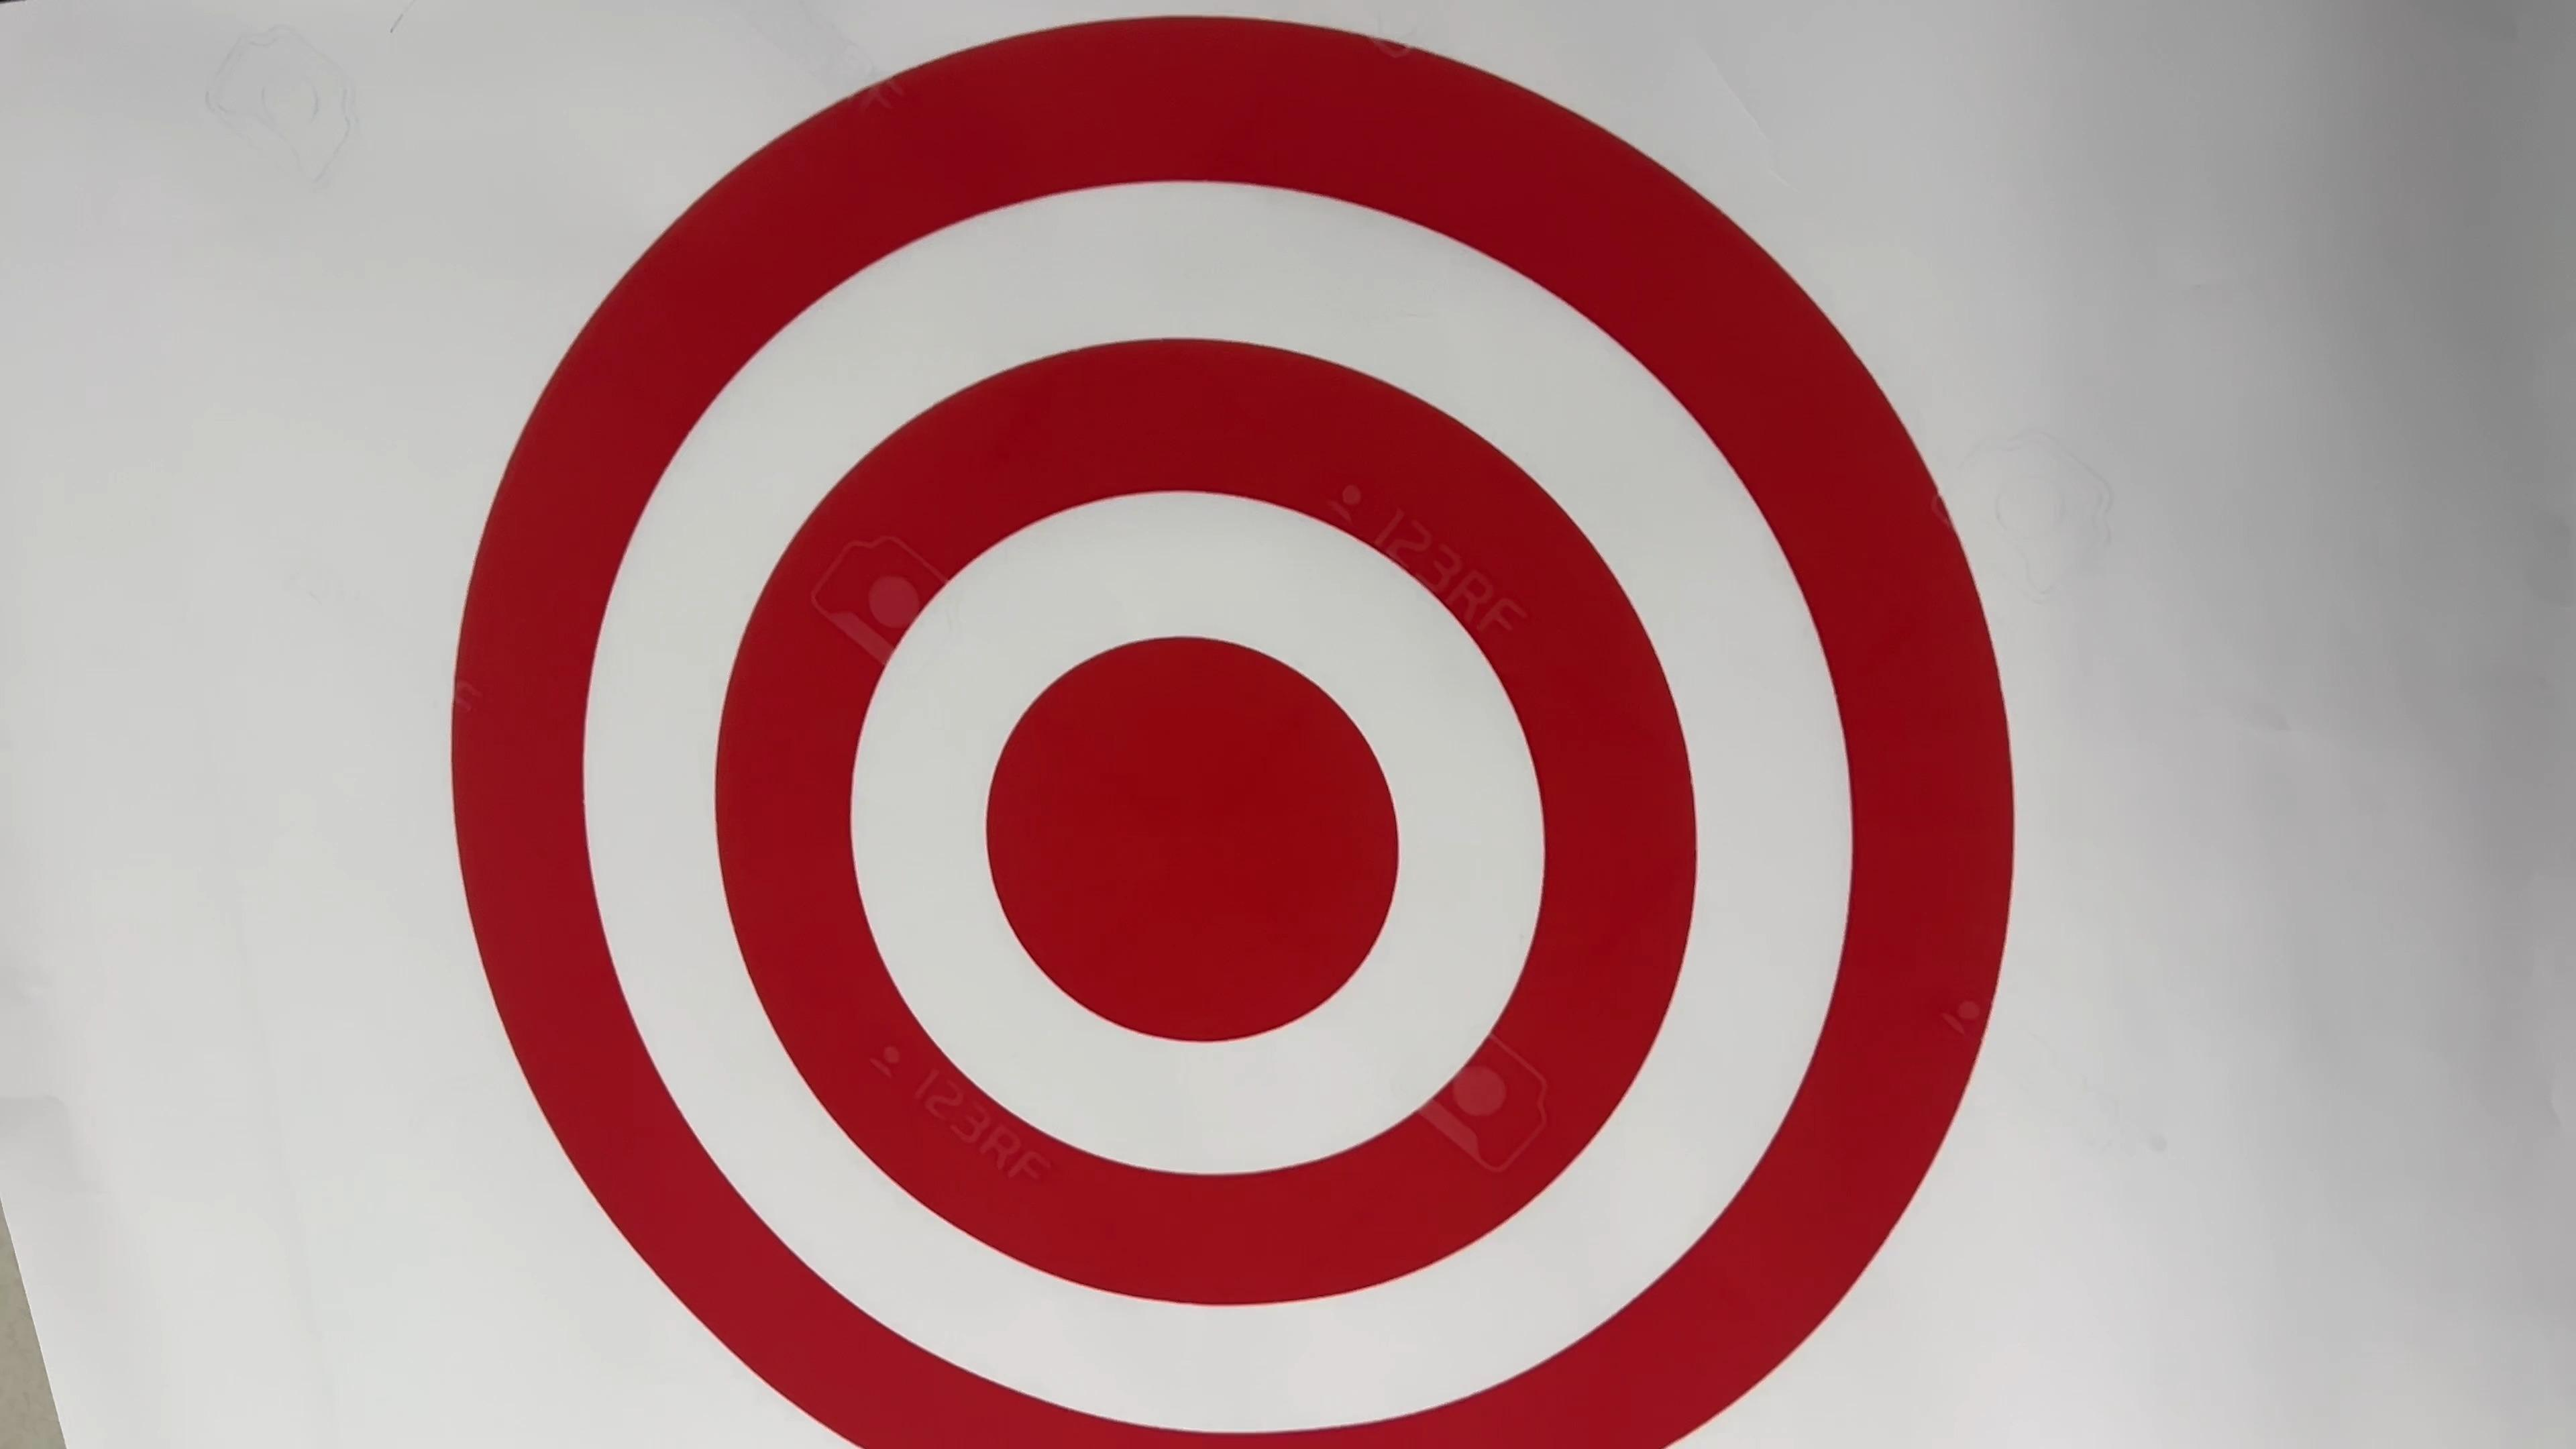target_red: (403, 0, 2049, 1449)
